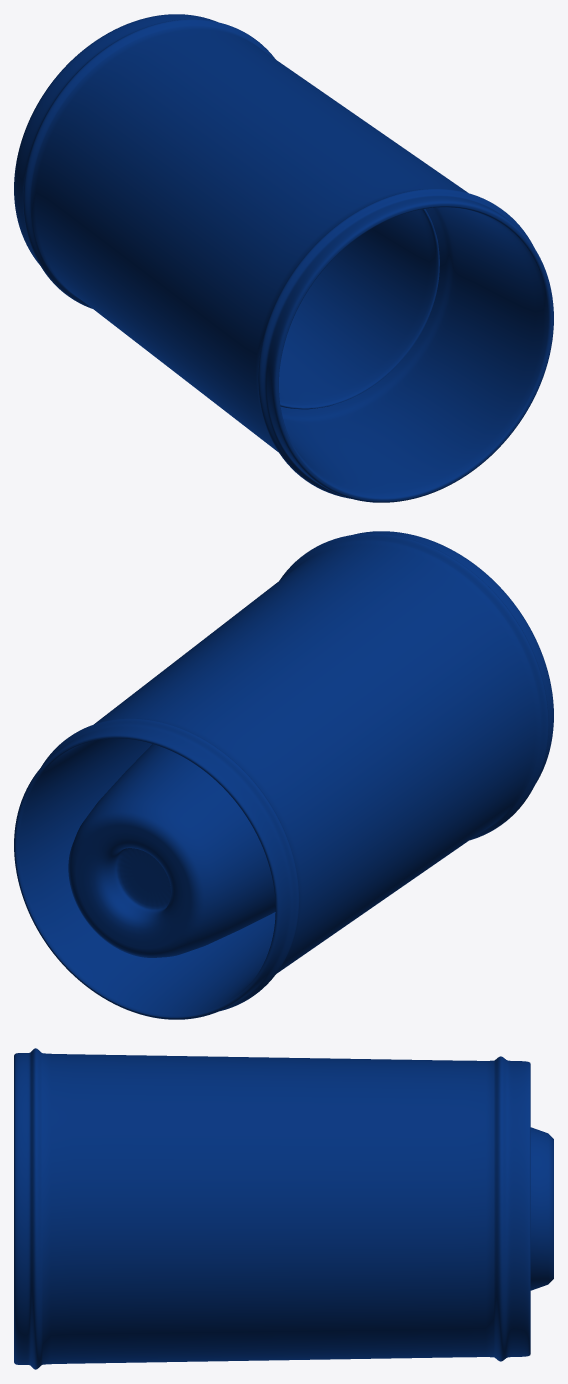
The model's file is MarkerCap.fbx.
3 renders of one model, top to bottom at view 1: azimuth 30°, elevation 25°; view 2: azimuth 150°, elevation 25°; view 3: azimuth 270°, elevation 25°, orthographic. The views are drawn at different scales.
Parts seen in each view (by area): view 1: Cap; view 2: Cap; view 3: Cap.
Part boxes in pixels (x1,y1,x2,y2): Cap: (14, 14, 553, 502); Cap: (14, 531, 553, 1019); Cap: (14, 1048, 553, 1369).
Bounding box in the file's own units: 41.06 × 41.06 × 68.98.
